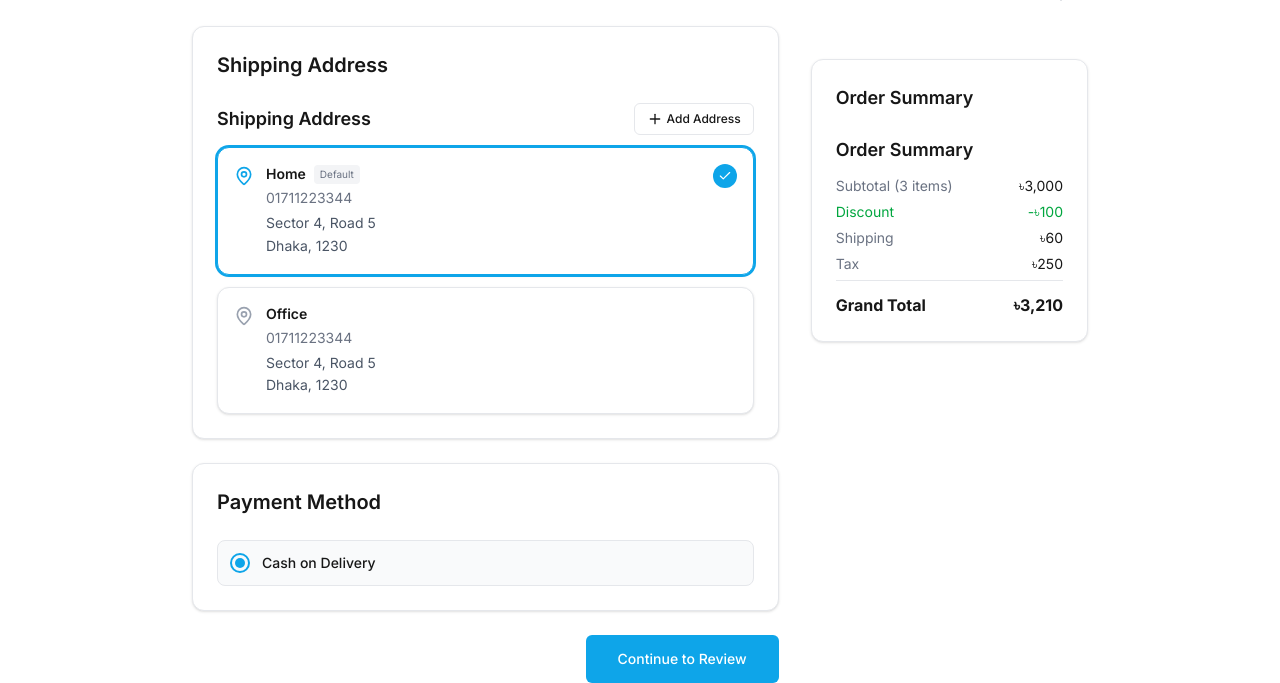
Test: CheckoutPage › FE-UNIT-001: Step Navigation › moves to step 2 (Review) when address is selected and Continue is clicked
(page scrolled)
Click Continue to Review
Step 1. Click the button "Continue to Review" → (682, 659), box [586,635,779,682]
(page scrolled)
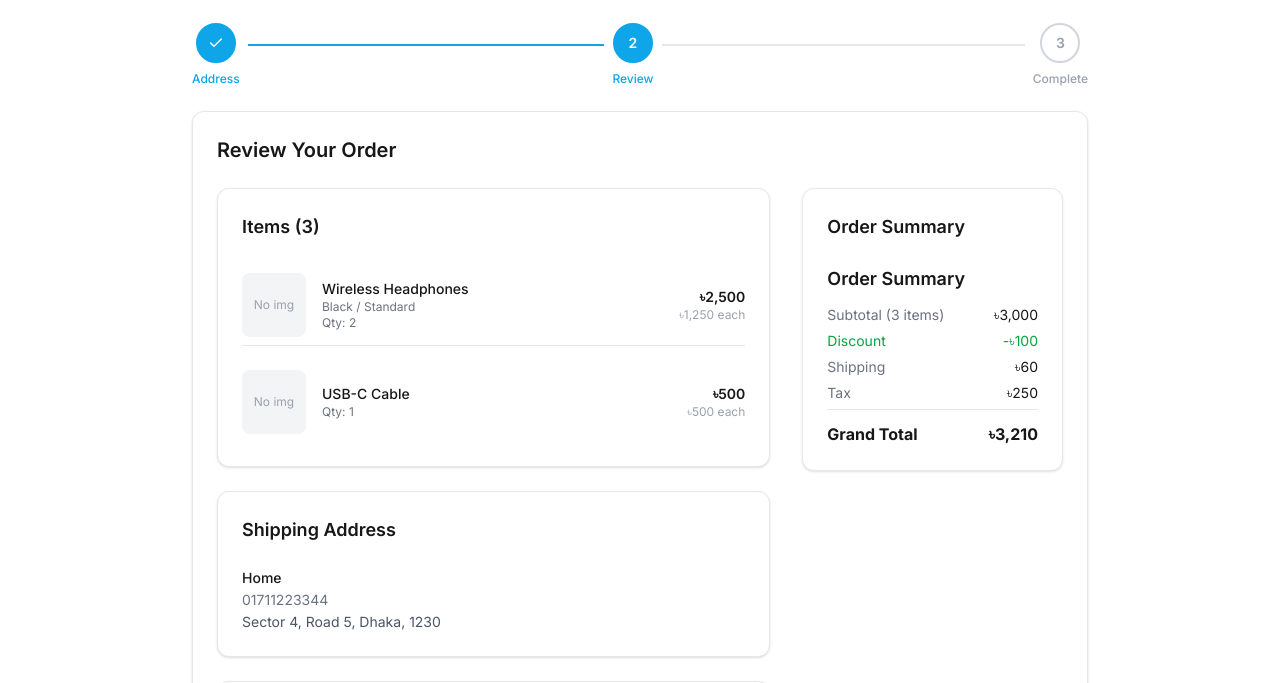
Expected: the heading "Review Your Order" is shown, [217,138,396,162]
